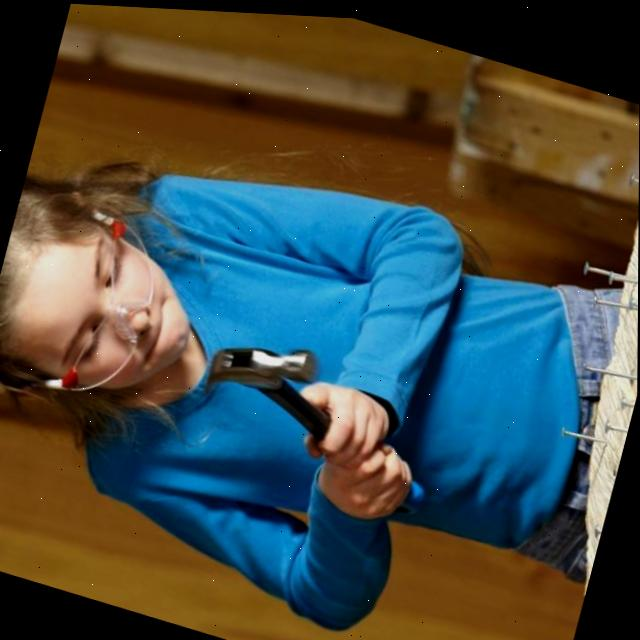hammer: (180, 312, 463, 513)
